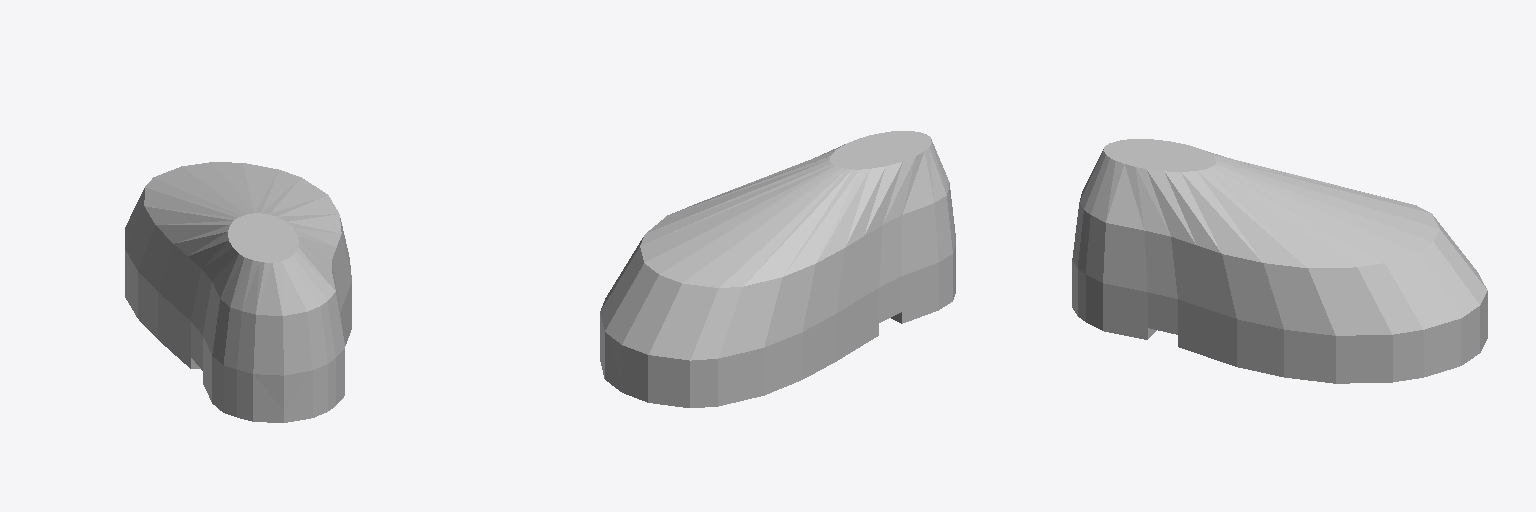
File: player_shoesR.obj
The picture shows the model from 3 angles: view 1: azimuth 30°, elevation 25°; view 2: azimuth 150°, elevation 25°; view 3: azimuth 270°, elevation 25°; orthographic projection.
Parts seen in each view (by area): view 1: 右足_立方体.009; view 2: 右足_立方体.009; view 3: 右足_立方体.009.
Boxes of the visible parts, <box> form: 右足_立方体.009: <box>125,162,351,422</box>; 右足_立方体.009: <box>600,131,955,407</box>; 右足_立方体.009: <box>1072,139,1487,383</box>.
Bounding box in the file's own units: 1.46 × 0.9591 × 2.41.